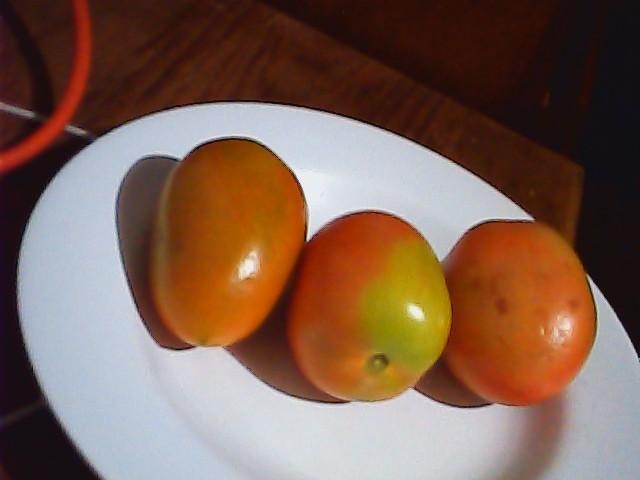verde: (282, 207, 449, 404)
